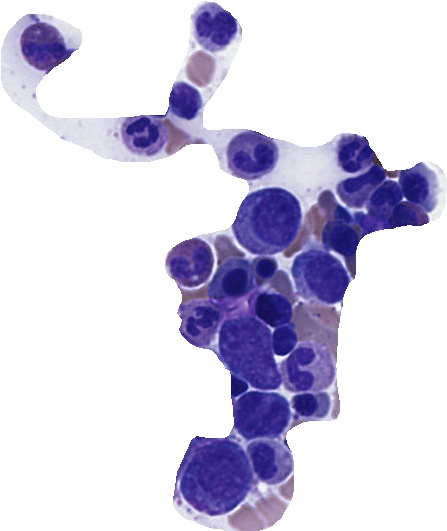objectness: (329, 129, 379, 179), (178, 297, 228, 347), (119, 110, 169, 160), (229, 134, 279, 184), (278, 342, 328, 392), (18, 22, 68, 72), (385, 193, 435, 243), (166, 240, 216, 290), (337, 161, 387, 211), (246, 438, 296, 488), (360, 176, 410, 226), (237, 387, 287, 437), (208, 254, 258, 304), (317, 215, 367, 265), (258, 314, 308, 364), (292, 251, 342, 301), (223, 323, 273, 373), (248, 284, 298, 334), (158, 76, 208, 126), (394, 158, 444, 208), (284, 380, 334, 430), (239, 244, 289, 294), (195, 447, 245, 497), (244, 196, 294, 246), (187, 0, 237, 49)
